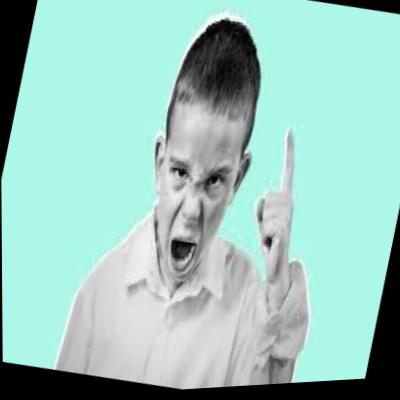angry: (129, 40, 264, 294)
